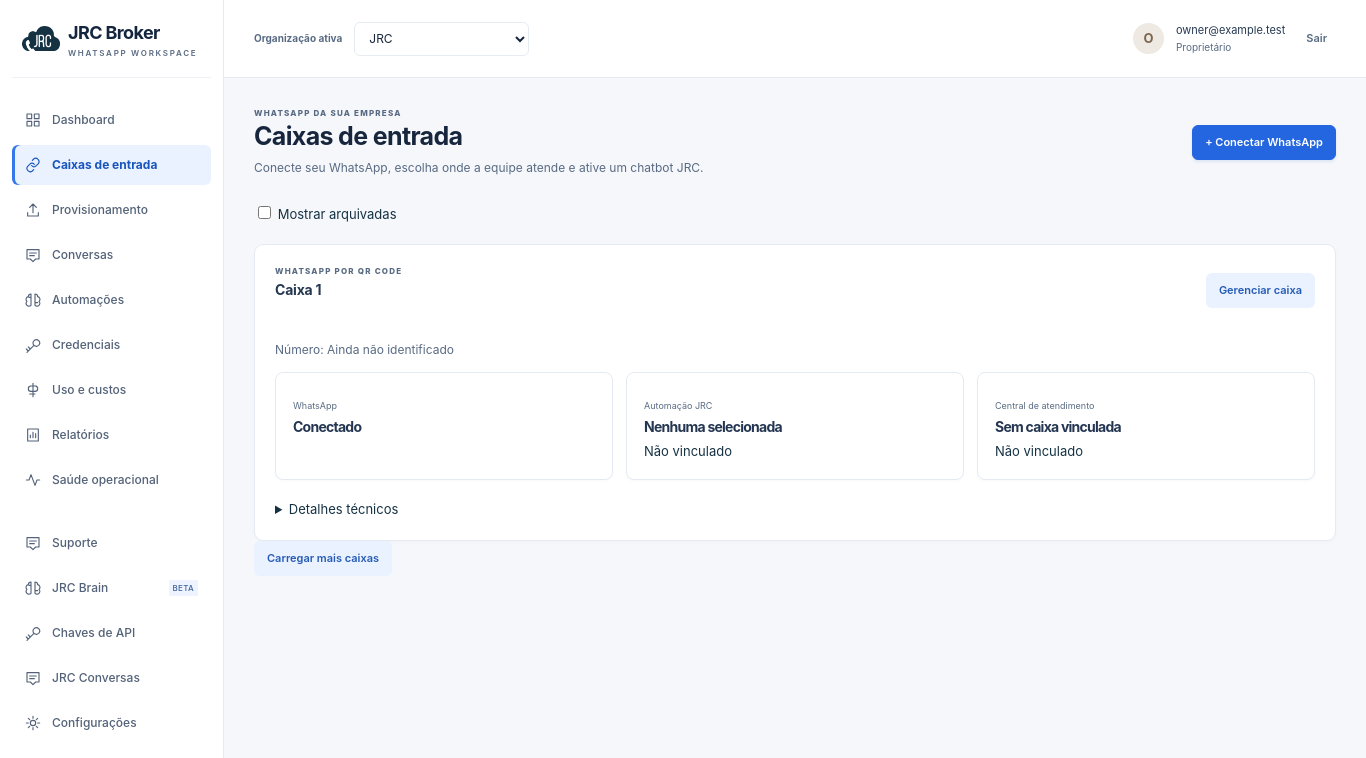
canonical channels UI › loads a bounded next page of inboxes on demand
The image size is (1366, 758).
Expected: the heading "Caixa 1" is shown, [275,281,322,298]
Click the button "Carregar mais caixas" at point(323, 558), box [254,541,392,576]
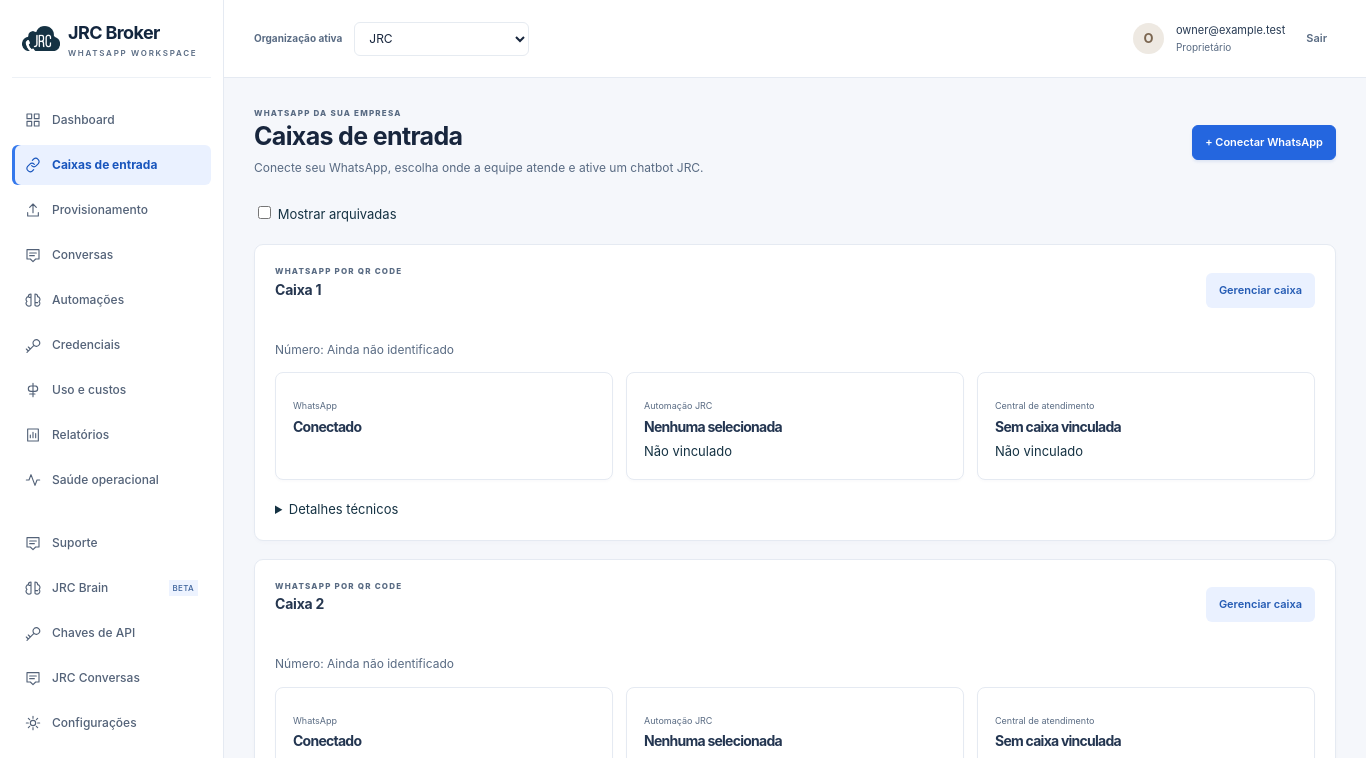
Now the heading "Caixa 2" is shown, box [275,595,324,612]
Now the button "Carregar mais caixas" is gone
